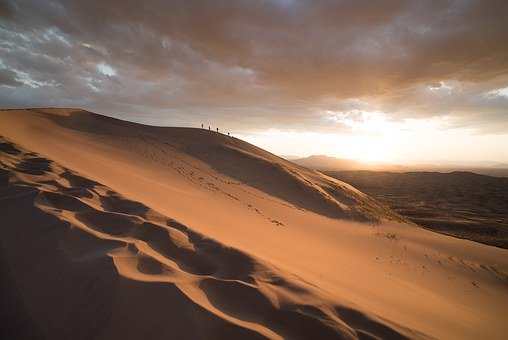desert: (4, 108, 472, 337)
sky: (5, 3, 499, 135)
